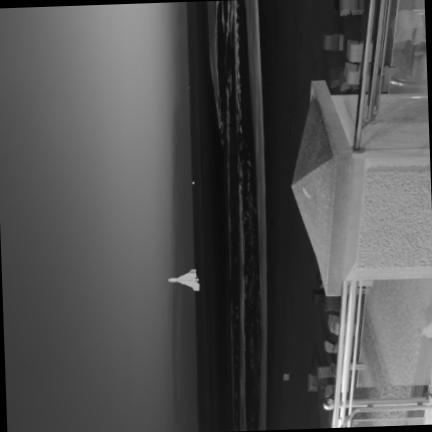Shahed: (168, 269, 199, 290)
